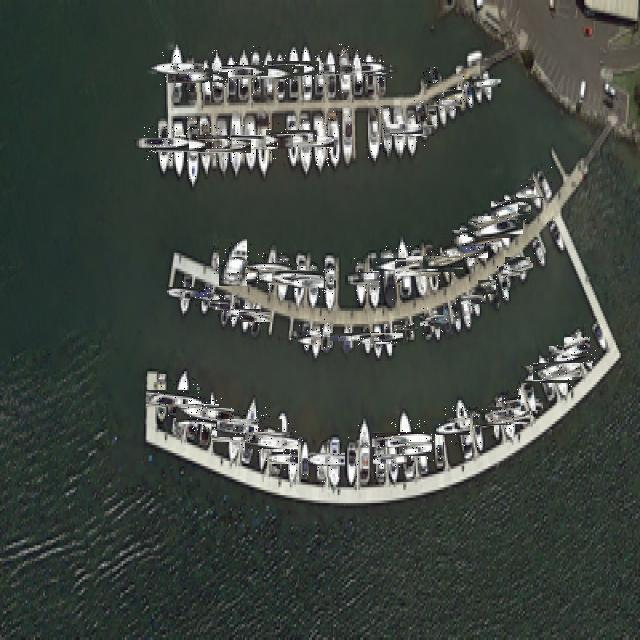boat: (228, 407, 270, 449), (158, 378, 199, 420), (257, 420, 298, 462), (385, 419, 426, 461), (443, 406, 483, 447), (242, 123, 280, 161), (187, 397, 224, 435), (215, 243, 252, 281), (385, 246, 423, 283), (203, 127, 239, 165), (216, 124, 253, 160), (286, 123, 322, 159), (185, 124, 221, 160), (158, 51, 194, 86), (289, 51, 324, 86), (318, 442, 352, 477), (448, 230, 482, 265), (232, 124, 267, 158), (250, 55, 284, 90), (160, 129, 195, 163), (144, 126, 178, 161), (176, 394, 210, 428), (282, 261, 316, 295), (356, 261, 390, 295), (488, 398, 522, 432), (460, 222, 494, 256), (540, 355, 574, 388), (276, 52, 310, 85), (414, 248, 447, 281), (275, 120, 307, 154), (379, 245, 397, 305), (529, 358, 561, 390), (555, 338, 587, 370), (484, 209, 516, 241), (255, 253, 287, 284), (382, 113, 413, 145), (227, 55, 258, 87), (356, 413, 370, 482), (219, 419, 250, 450), (402, 253, 433, 284), (395, 115, 426, 146), (266, 261, 296, 292), (315, 55, 346, 85), (176, 61, 206, 92), (406, 434, 436, 464), (474, 214, 504, 244), (496, 196, 526, 226), (568, 332, 597, 361), (215, 59, 244, 88), (186, 114, 198, 184), (278, 444, 306, 473), (508, 389, 537, 417), (326, 108, 340, 166), (299, 269, 327, 297), (266, 57, 294, 85), (192, 64, 220, 92), (339, 103, 352, 163), (305, 56, 332, 84), (366, 105, 380, 158), (312, 113, 325, 169), (172, 280, 198, 307), (430, 249, 456, 275), (356, 56, 382, 82), (518, 177, 544, 202), (338, 42, 350, 95), (154, 368, 166, 418), (380, 447, 404, 472), (522, 374, 538, 411), (324, 250, 334, 308), (480, 407, 504, 431), (368, 59, 392, 83), (350, 45, 362, 92), (534, 166, 552, 197), (304, 328, 326, 352), (212, 45, 222, 97), (414, 100, 428, 137), (373, 432, 384, 479), (590, 316, 606, 348), (380, 106, 390, 156), (250, 45, 260, 95), (244, 306, 266, 328), (366, 329, 388, 351), (482, 276, 504, 298), (470, 408, 482, 448), (547, 218, 563, 248), (214, 295, 236, 316), (508, 254, 530, 275), (420, 100, 442, 121), (258, 424, 268, 469), (354, 258, 364, 303), (436, 308, 457, 329), (432, 424, 443, 464), (425, 311, 445, 332), (496, 266, 509, 298), (458, 292, 470, 326), (317, 437, 326, 482), (346, 437, 355, 482), (298, 437, 308, 477), (335, 327, 355, 347), (377, 327, 397, 347), (449, 85, 469, 105), (195, 287, 215, 306), (295, 325, 315, 344), (439, 92, 459, 111), (470, 69, 482, 100), (530, 237, 544, 263), (236, 304, 255, 323), (477, 74, 496, 92), (356, 327, 374, 345), (436, 92, 446, 124), (465, 291, 482, 309), (462, 76, 472, 106), (230, 295, 240, 324), (464, 48, 482, 64), (450, 298, 460, 326), (502, 264, 518, 280), (423, 67, 439, 83), (399, 320, 414, 336), (422, 308, 430, 337), (322, 319, 329, 350), (519, 204, 531, 215), (453, 61, 462, 71)
